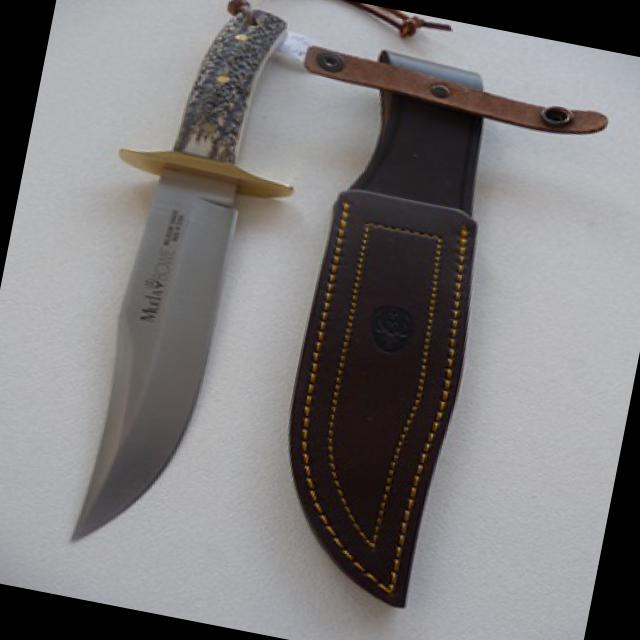knife: (51, 156, 268, 582)
